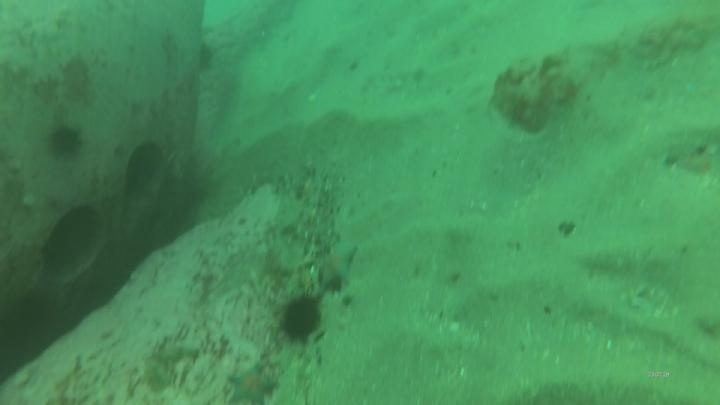echinus: (277, 291, 325, 345), (45, 123, 85, 161)
holothurian: (577, 239, 689, 283)
starfish: (314, 238, 362, 292), (225, 363, 280, 405)
